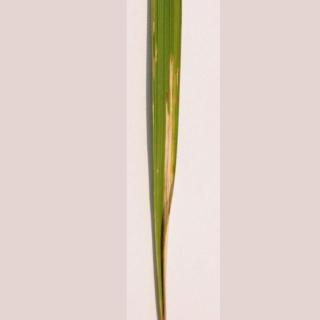Hawar-Daun: (155, 60, 187, 320), (146, 5, 163, 120)
